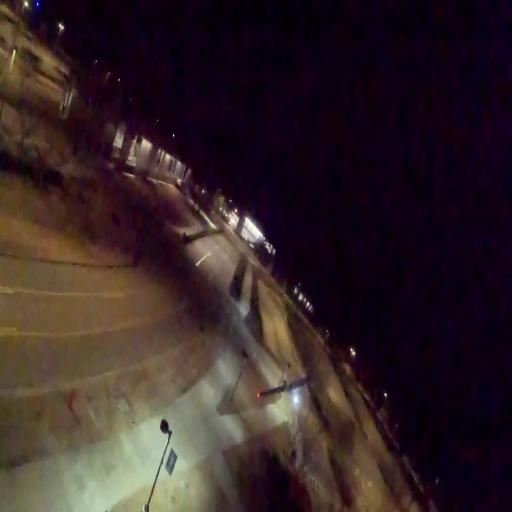uav: (254, 369, 319, 403)
